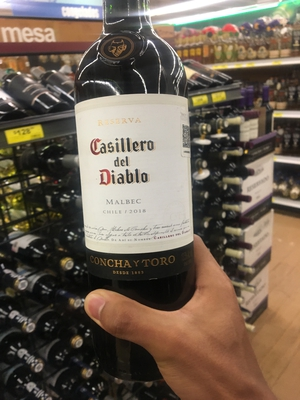casillero del diablo malbec: (68, 2, 224, 371)
